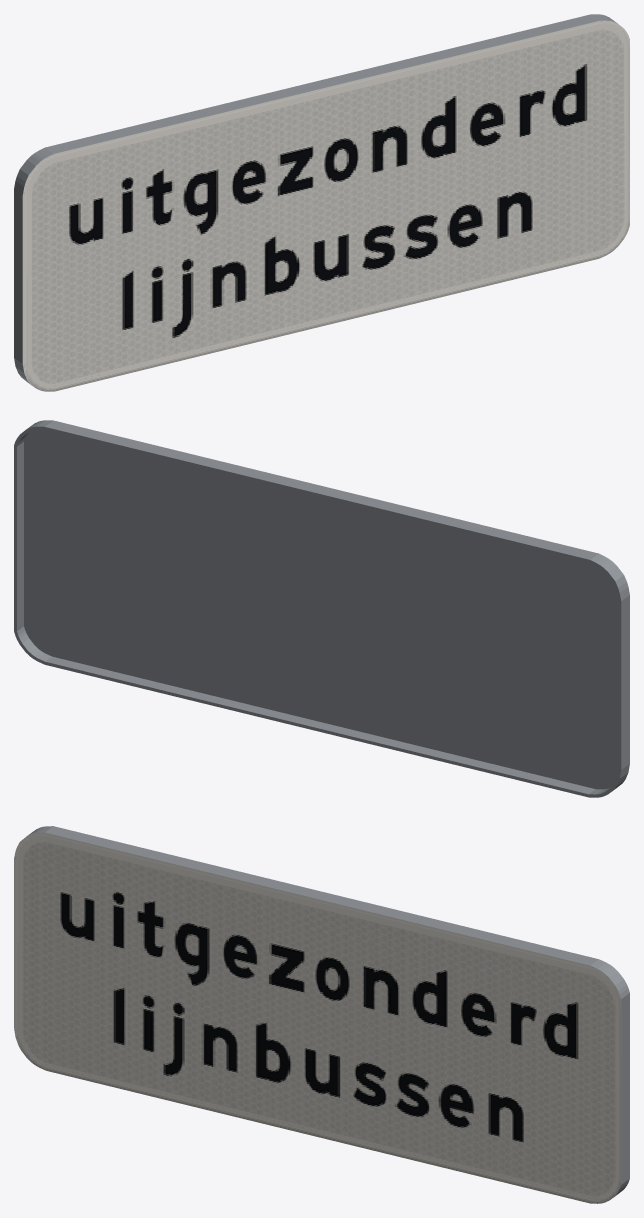
3 views of the same model, one above another, from view 1: azimuth 30°, elevation 25°; view 2: azimuth 150°, elevation 25°; view 3: azimuth 330°, elevation 25° (orthographic).
Visible parts, largest first — view 1: cat_2314e016a054e7c4; view 2: cat_2314e016a054e7c4; view 3: cat_2314e016a054e7c4.
Part boxes in pixels (box(x1,y1,x2,y2)): cat_2314e016a054e7c4: box(14, 14, 629, 391); cat_2314e016a054e7c4: box(14, 420, 629, 797); cat_2314e016a054e7c4: box(14, 826, 629, 1203).
Bounding box in the file's own units: 0.6 × 0.015 × 0.2246.
Materials: 2 (1 with a texture image).
